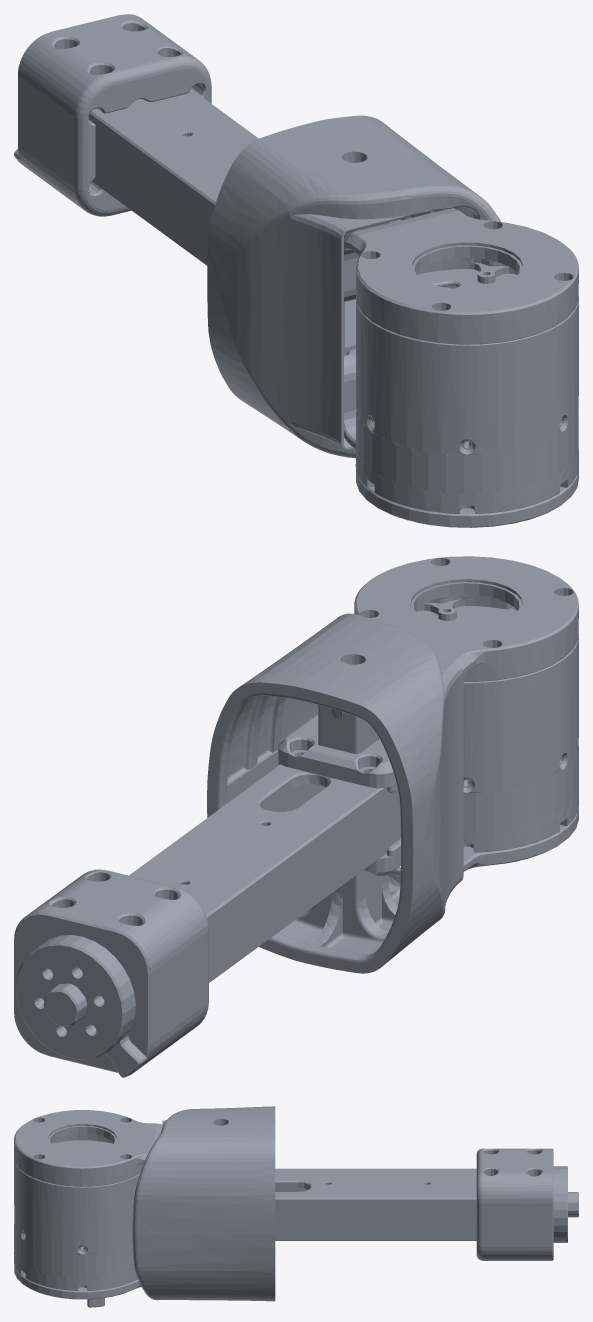
3 views of the same model, one above another, from view 1: azimuth 30°, elevation 25°; view 2: azimuth 150°, elevation 25°; view 3: azimuth 270°, elevation 25° (orthographic). The views are drawn at different scales.
Bounding box in the file's own units: 0.0604 × 0.0768 × 0.2345.
